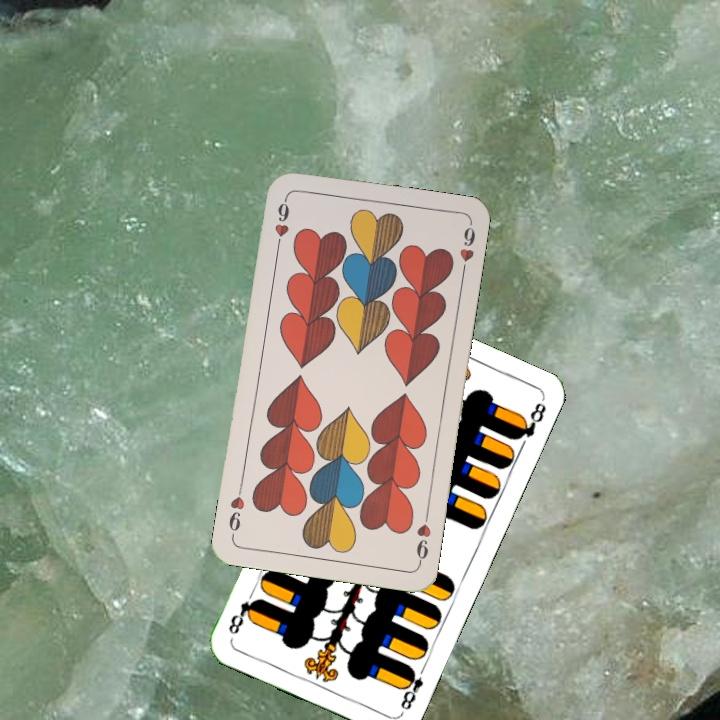E8: (396, 661, 429, 713)
H9: (412, 508, 434, 567), (270, 194, 292, 253)
